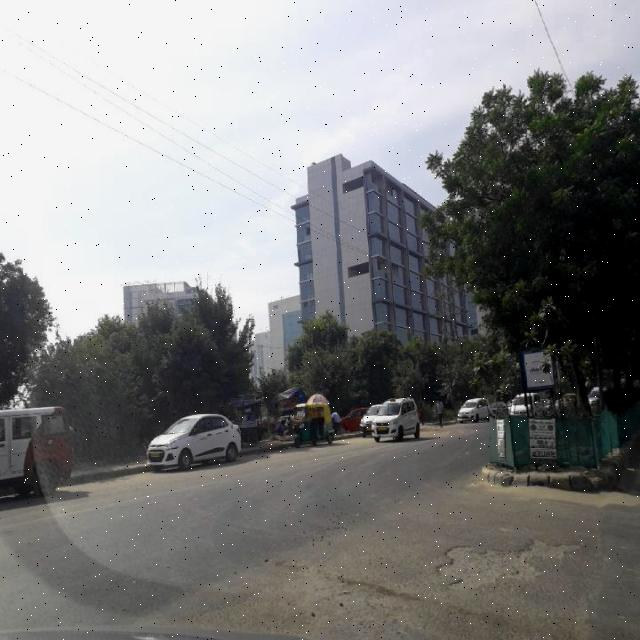D40: (428, 535, 564, 592)
